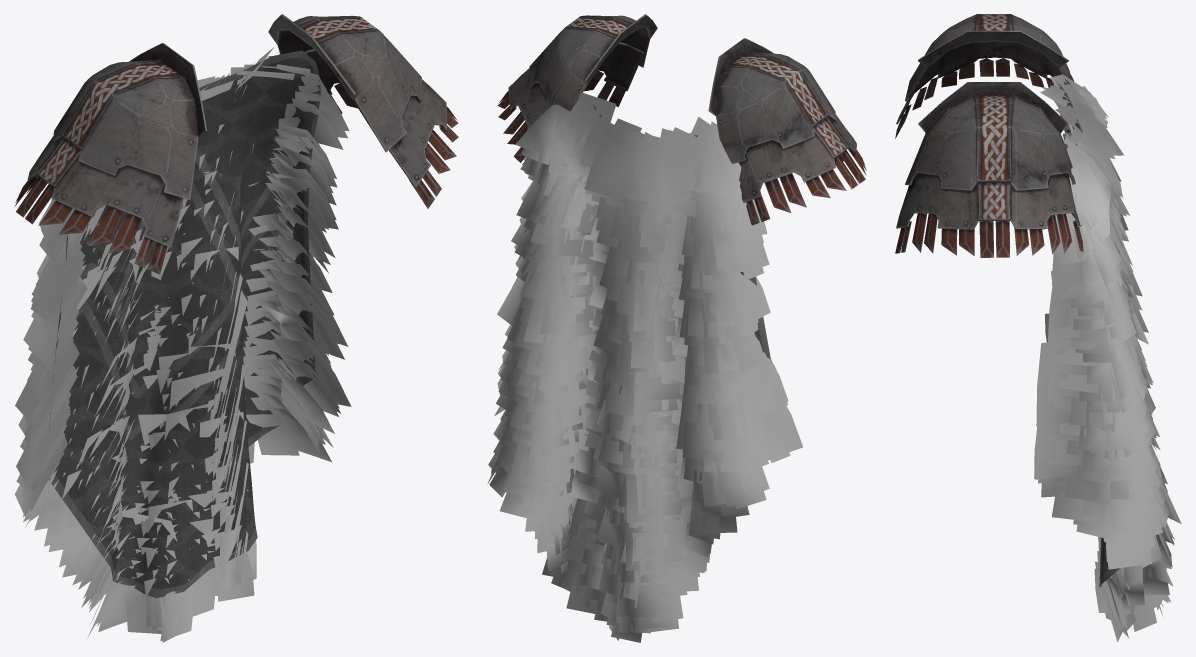
File: sk_dwarf_iron_pauldron_elite_cape_b.fbx
3 renders of one model, left to right at view 1: azimuth 30°, elevation 25°; view 2: azimuth 150°, elevation 25°; view 3: azimuth 270°, elevation 25°, orthographic. The views are drawn at different scales.
Parts seen in each view (by area): view 1: sk_dwarf_iron_pauldron_elite_cape_b.cape.1, sk_dwarf_iron_pauldron_elite_cape_b.cape.0, sk_dwarf_iron_pauldron_elite_cape_b; view 2: sk_dwarf_iron_pauldron_elite_cape_b.cape.1, sk_dwarf_iron_pauldron_elite_cape_b; view 3: sk_dwarf_iron_pauldron_elite_cape_b.cape.1, sk_dwarf_iron_pauldron_elite_cape_b, sk_dwarf_iron_pauldron_elite_cape_b.cape.0.
Boxes of the visible parts, x1,y1,x2,y2 form: sk_dwarf_iron_pauldron_elite_cape_b.cape.1: (15,47,351,642); sk_dwarf_iron_pauldron_elite_cape_b.cape.0: (49,50,320,598); sk_dwarf_iron_pauldron_elite_cape_b: (14,14,458,274); sk_dwarf_iron_pauldron_elite_cape_b.cape.1: (488,92,802,642); sk_dwarf_iron_pauldron_elite_cape_b: (497,14,866,225); sk_dwarf_iron_pauldron_elite_cape_b.cape.1: (1034,74,1181,642); sk_dwarf_iron_pauldron_elite_cape_b: (895,14,1083,257); sk_dwarf_iron_pauldron_elite_cape_b.cape.0: (1056,81,1119,587).
Size of the model in its own units: 0.7683 by 0.5141 by 1.13.
